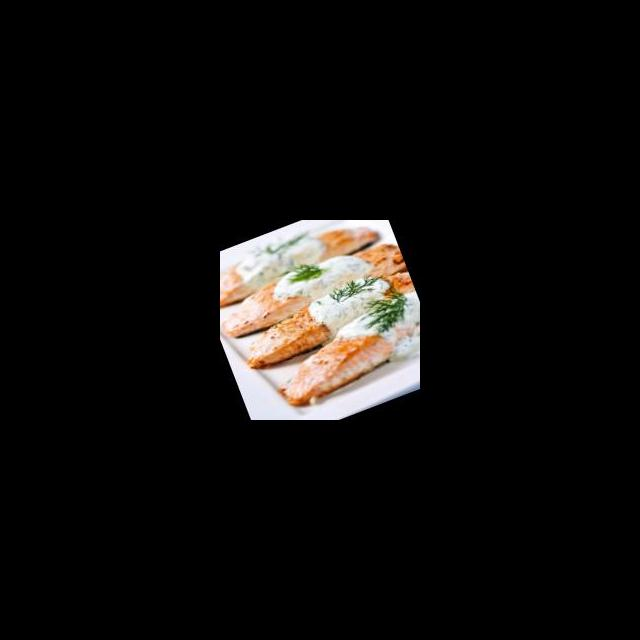ca hoi: (220, 235, 409, 346), (232, 266, 420, 375), (262, 299, 420, 418), (220, 220, 383, 315)
ca hoi sot pho mai kem: (220, 238, 420, 420)
pho mai: (320, 283, 409, 336), (236, 243, 324, 279), (284, 263, 363, 301)
